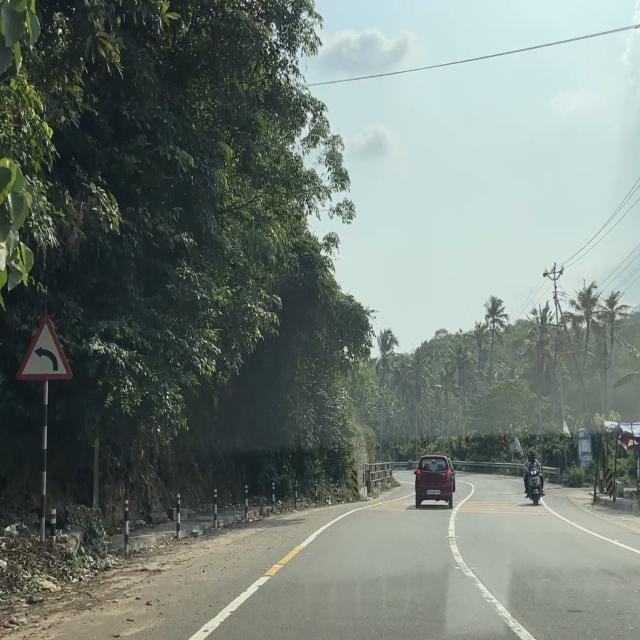LEFT_TURN_AHEAD: (15, 312, 74, 383)
